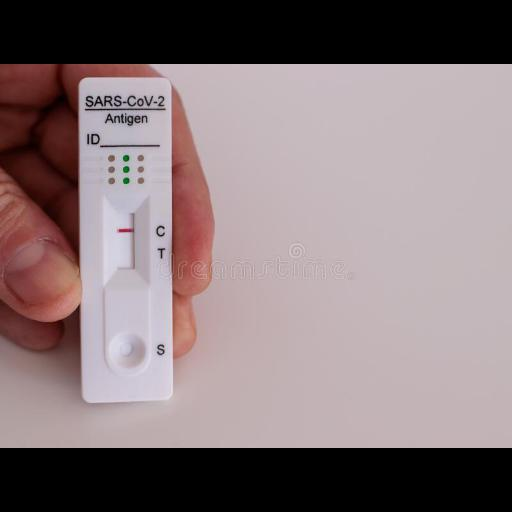Neg: (80, 78, 174, 398)
